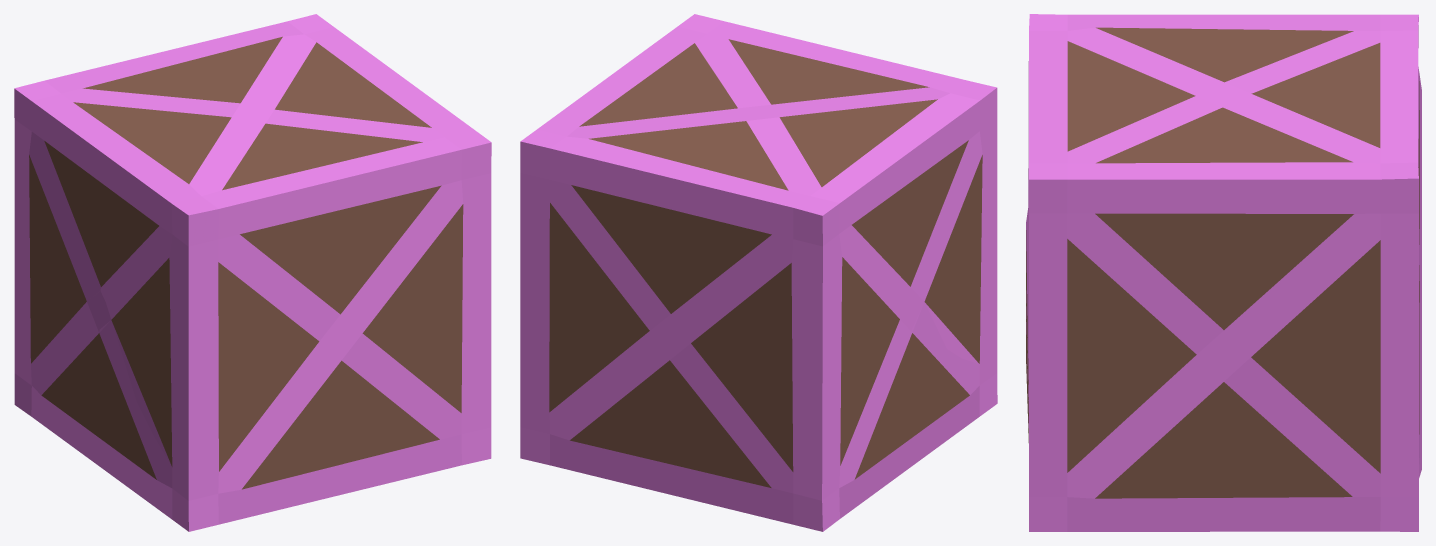
File: HeavyBox.glb
The picture shows the model from 3 angles, left to right: view 1: azimuth 30°, elevation 25°; view 2: azimuth 150°, elevation 25°; view 3: azimuth 270°, elevation 25°; orthographic projection. The views are drawn at different scales.
Parts seen in each view (by area): view 1: Cube; view 2: Cube; view 3: Cube.
Part boxes in pixels (x1=…): Cube: x1=14, y1=14, x2=491, y2=531; Cube: x1=520, y1=14, x2=997, y2=531; Cube: x1=1026, y1=14, x2=1421, y2=531.
Size of the model in its own units: 1.02 by 1.02 by 1.02.
